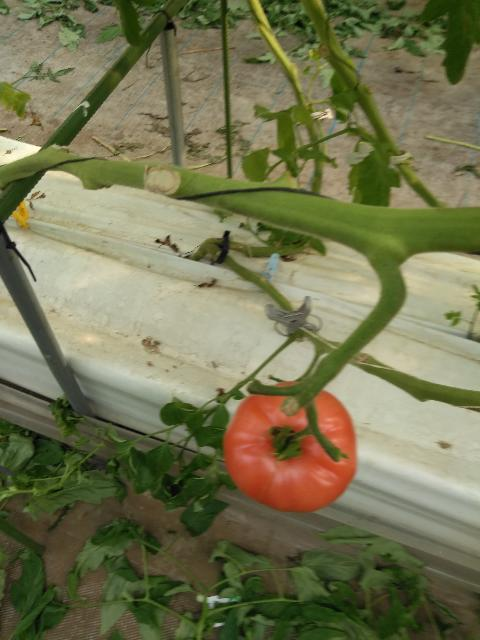b_fully_ripened: (224, 381, 357, 512)
